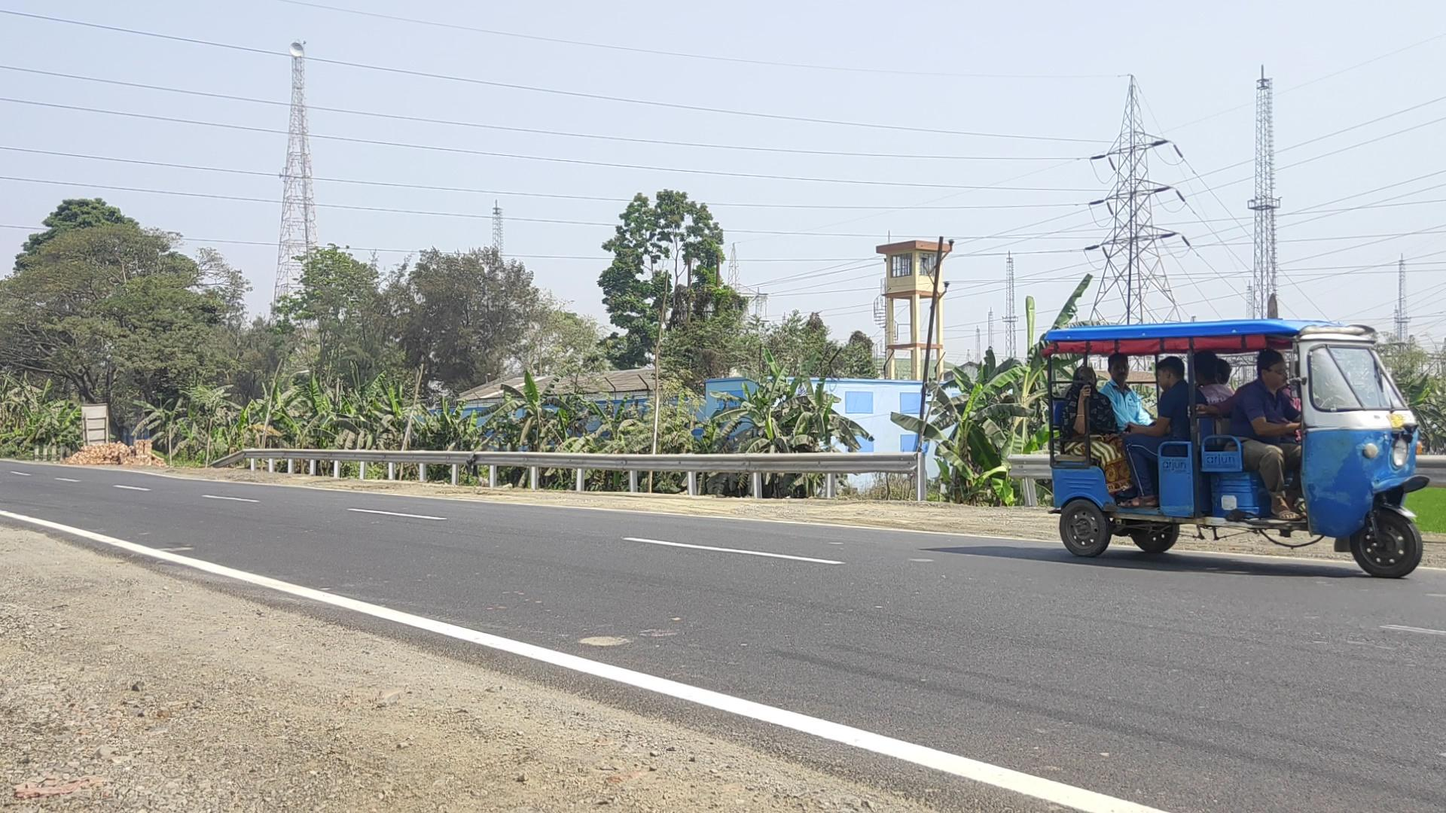Auto: (1043, 319, 1431, 580)
